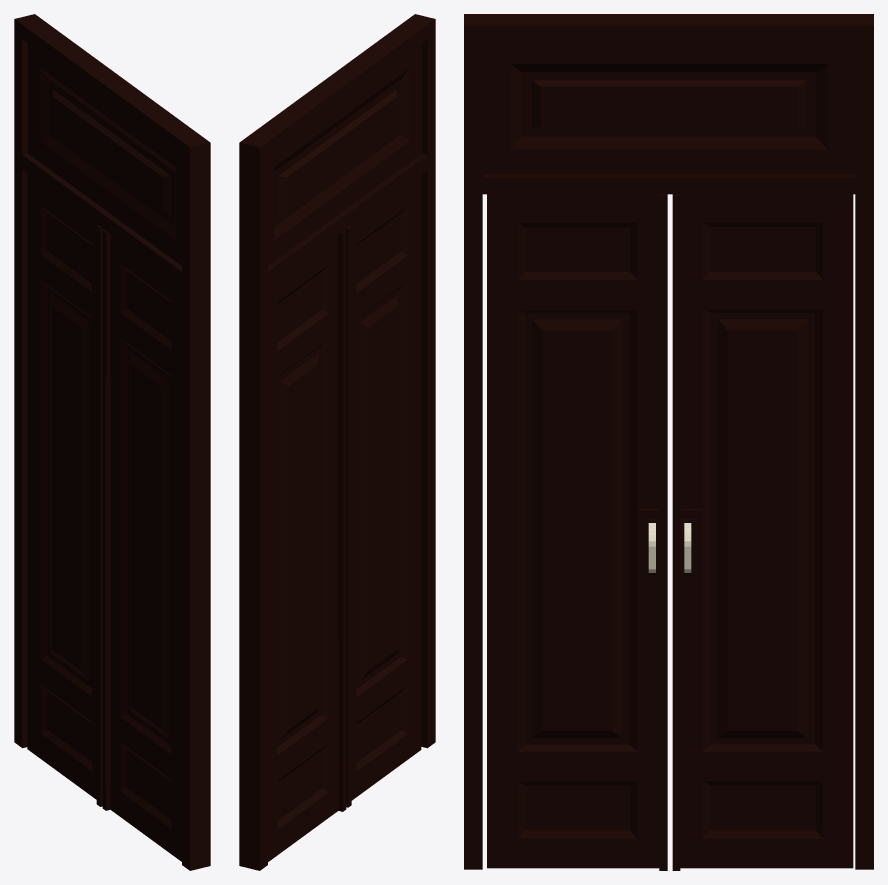
Rendered from 28_03_2020_puerta1.fbx.
The picture shows the model from 3 angles, left to right: view 1: azimuth 30°, elevation 25°; view 2: azimuth 150°, elevation 25°; view 3: azimuth 270°, elevation 25°; orthographic projection. The views are drawn at different scales.
Parts seen in each view (by area): view 1: marcocuadrado, puerta, puerta.001; view 2: marcocuadrado, puerta.001, puerta; view 3: puerta.001, puerta, marcocuadrado, Cube.001, Cube.
Boxes of the visible parts, <box> form: marcocuadrado: <box>14,14,210,870</box>; puerta: <box>102,229,181,861</box>; puerta.001: <box>27,173,103,806</box>; marcocuadrado: <box>239,14,435,870</box>; puerta.001: <box>268,230,346,861</box>; puerta: <box>345,174,421,807</box>; puerta.001: <box>672,194,853,870</box>; puerta: <box>487,194,667,870</box>; marcocuadrado: <box>464,14,873,869</box>; Cube.001: <box>680,508,701,587</box>; Cube: <box>638,508,658,587</box>.
Bounding box in the file's own units: 12.3 × 250 × 110.
